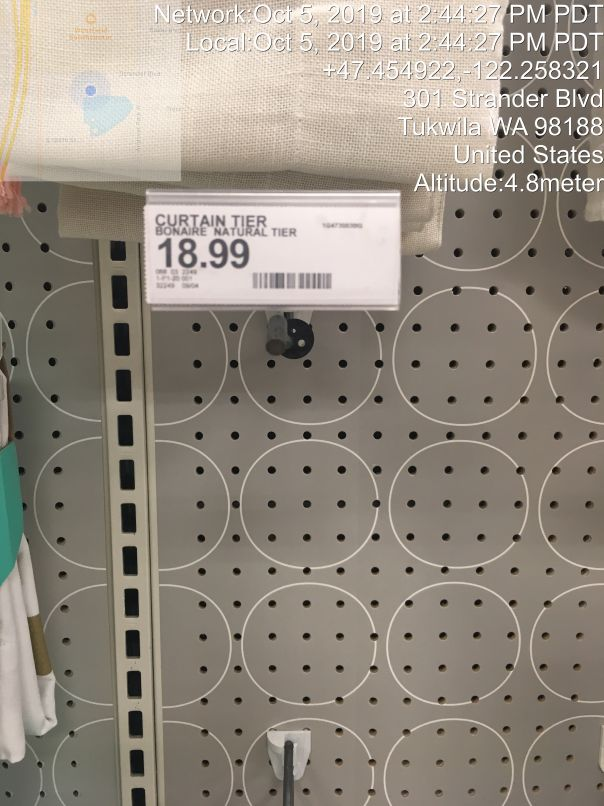Label: (139, 192, 407, 314)
Location: (393, 84, 604, 171)
Time: (147, 1, 604, 60)
Void: (147, 331, 426, 713)
